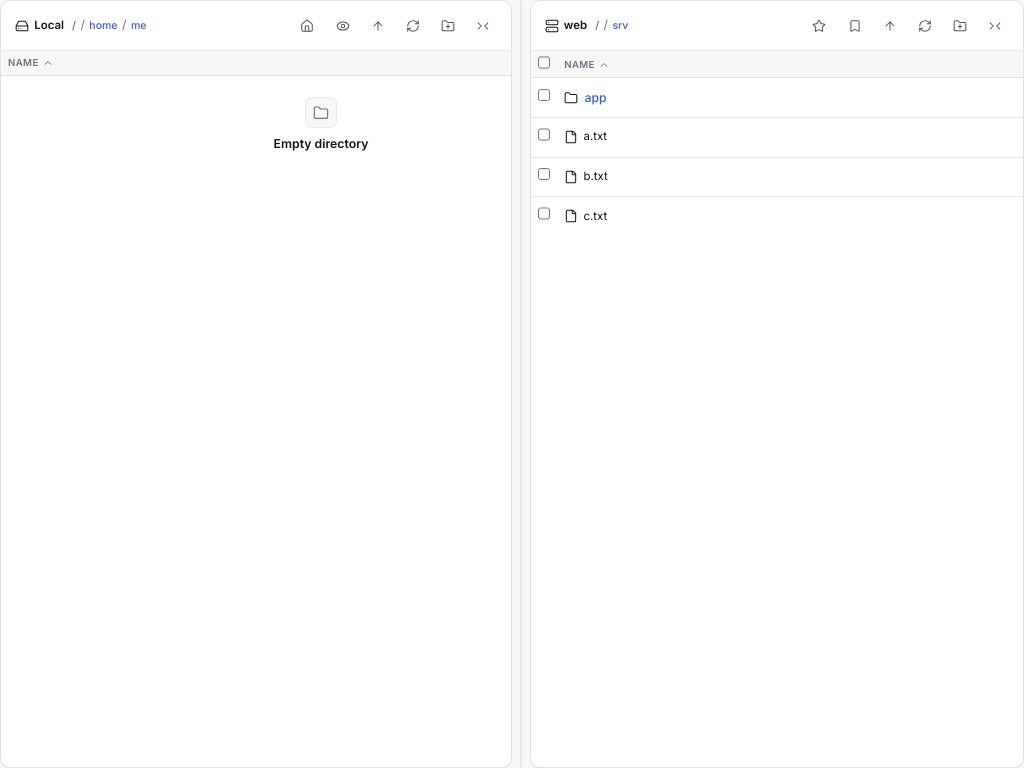
Test: favourite folders › lists only this host's favourites, and removes one from the dialog
Expected: the text "a.txt" is shown, [584,128,607,146]
Click the button named "Favourite folders": (855, 26) [840,12,869,40]
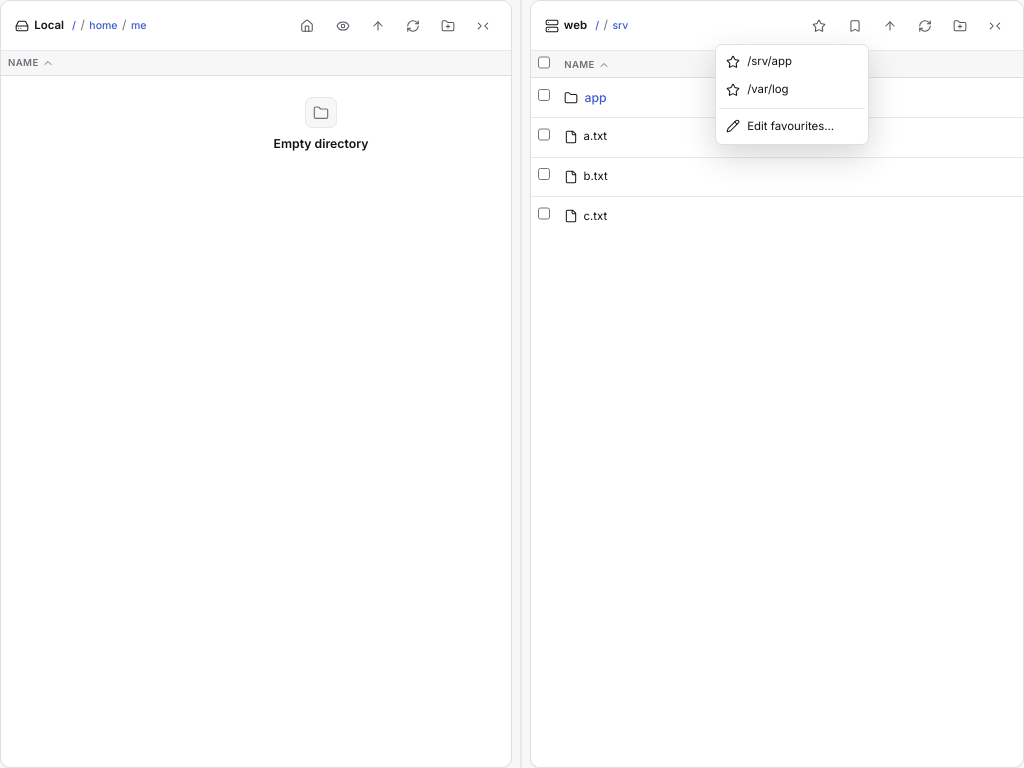
Result: the menu item "/srv/app" is shown at [719,48,865,76]
Click the menu item "Edit favourites…": (792, 126) [719,112,865,140]
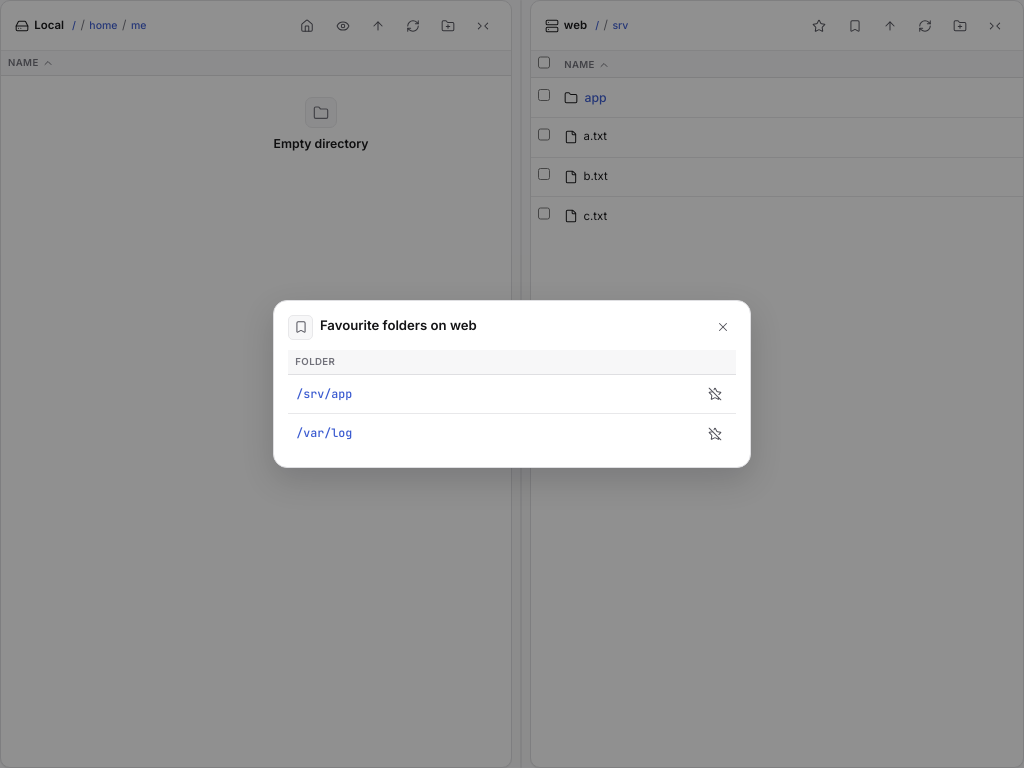
Click the button named "Remove /var/log from favourites": (715, 434) [701,420,729,448]
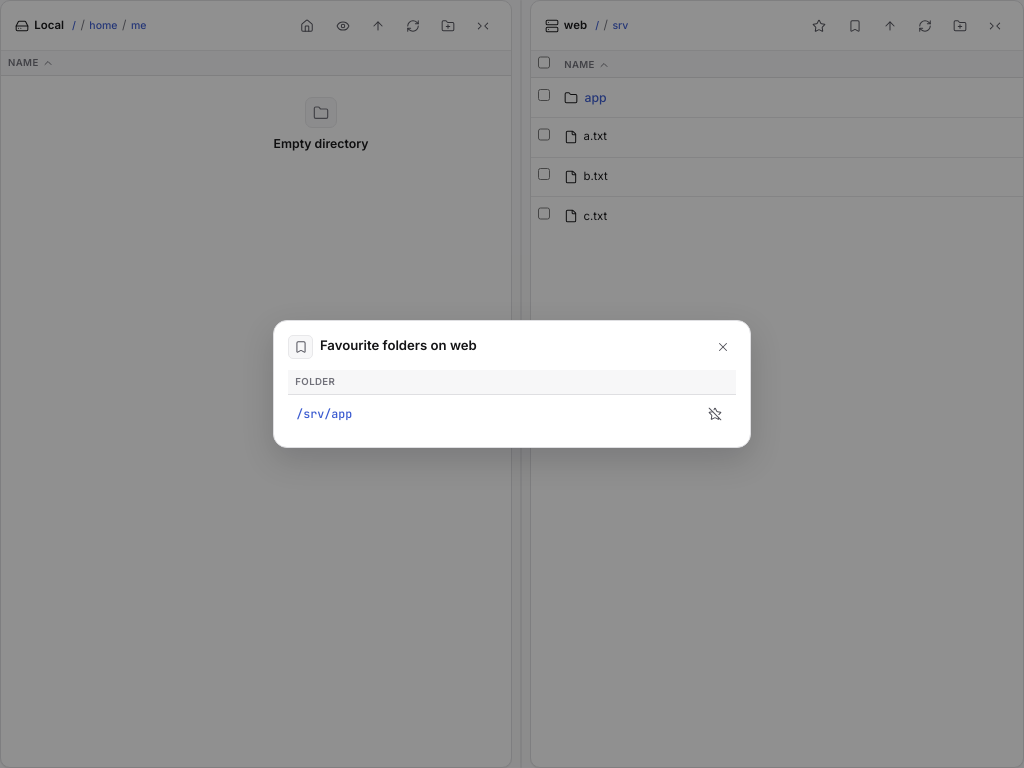
Result: the button "/var/log" is gone
